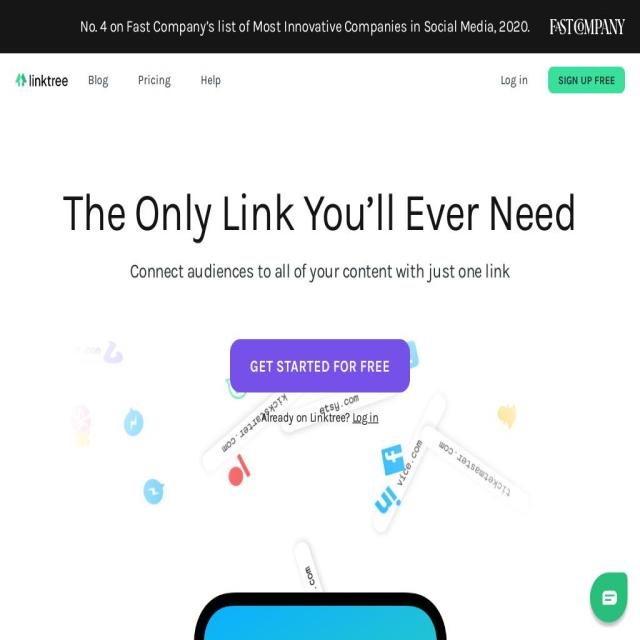button: (230, 339, 410, 393), (548, 67, 625, 93), (138, 53, 171, 107), (501, 53, 528, 107), (88, 53, 108, 107), (201, 53, 221, 107)
iframe: (587, 565, 631, 627)
image: (0, 252, 640, 604), (183, 239, 319, 280), (386, 335, 522, 376), (408, 292, 544, 332), (253, 392, 389, 432), (277, 292, 412, 332), (555, 259, 640, 300), (0, 275, 84, 316), (550, 18, 625, 35), (15, 72, 68, 88), (350, 470, 371, 498), (429, 328, 450, 356), (386, 509, 407, 537), (199, 295, 220, 323), (465, 459, 486, 487), (414, 284, 435, 312), (423, 497, 444, 524), (453, 351, 474, 378), (33, 312, 54, 339), (54, 281, 75, 308), (572, 307, 592, 335), (268, 434, 288, 462), (158, 335, 178, 363)
text: (63, 182, 577, 244), (65, 0, 545, 53), (63, 242, 577, 286), (250, 356, 390, 376), (261, 409, 353, 426), (558, 72, 615, 88), (138, 72, 171, 88), (352, 409, 379, 426), (501, 72, 528, 88), (88, 72, 108, 88), (201, 72, 221, 88)
